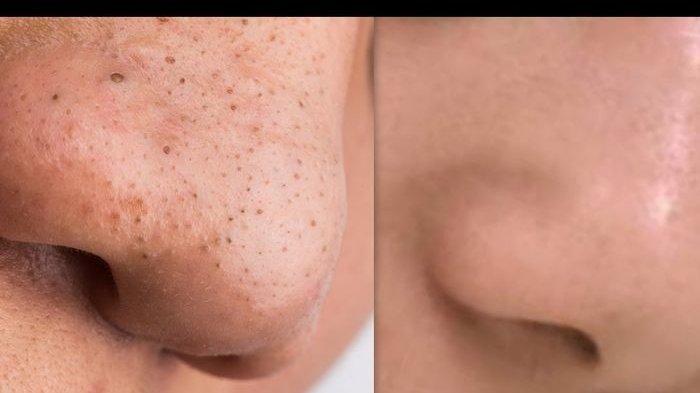Acne: (10, 17, 344, 321)
